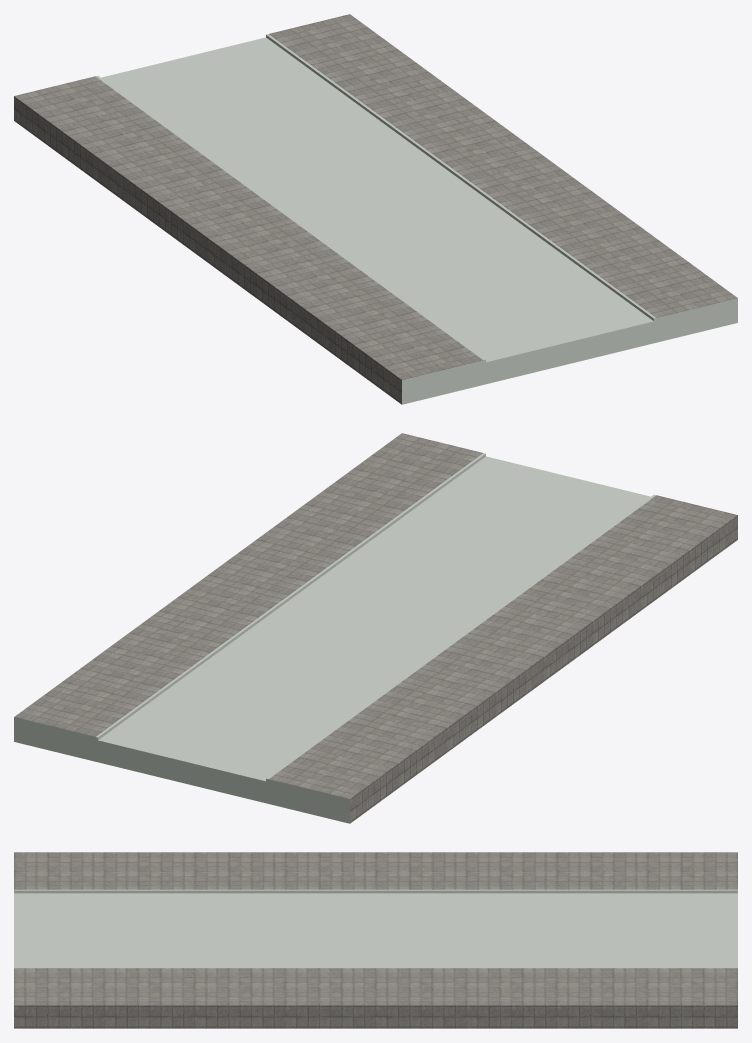
File: SingleStraight_high.fbx
3 views of the same model, one above another, from view 1: azimuth 30°, elevation 25°; view 2: azimuth 150°, elevation 25°; view 3: azimuth 270°, elevation 25° (orthographic). The views are drawn at different scales.
Parts seen in each view (by area): view 1: DmaterialC150, DmaterialA150, DmaterialB150, DmaterialD150, DmaterialE150; view 2: DmaterialC150, DmaterialA150, DmaterialB150, DmaterialD150, DmaterialE150; view 3: DmaterialC150, DmaterialA150, DmaterialD150, DmaterialE150.
Part boxes in pixels (<box>): DmaterialC150: <box>14,14,737,404</box>; DmaterialA150: <box>101,37,653,362</box>; DmaterialB150: <box>402,298,737,404</box>; DmaterialD150: <box>95,34,655,359</box>; DmaterialE150: <box>266,35,653,320</box>; DmaterialC150: <box>14,433,737,823</box>; DmaterialA150: <box>98,456,650,781</box>; DmaterialB150: <box>14,717,349,823</box>; DmaterialD150: <box>96,453,656,778</box>; DmaterialE150: <box>98,454,485,739</box>; DmaterialC150: <box>14,852,737,1028</box>; DmaterialA150: <box>14,893,737,967</box>; DmaterialD150: <box>14,889,737,968</box>; DmaterialE150: <box>14,890,737,893</box>.
Bounding box in the file's own units: 25.6 × 1.8 × 51.2.
